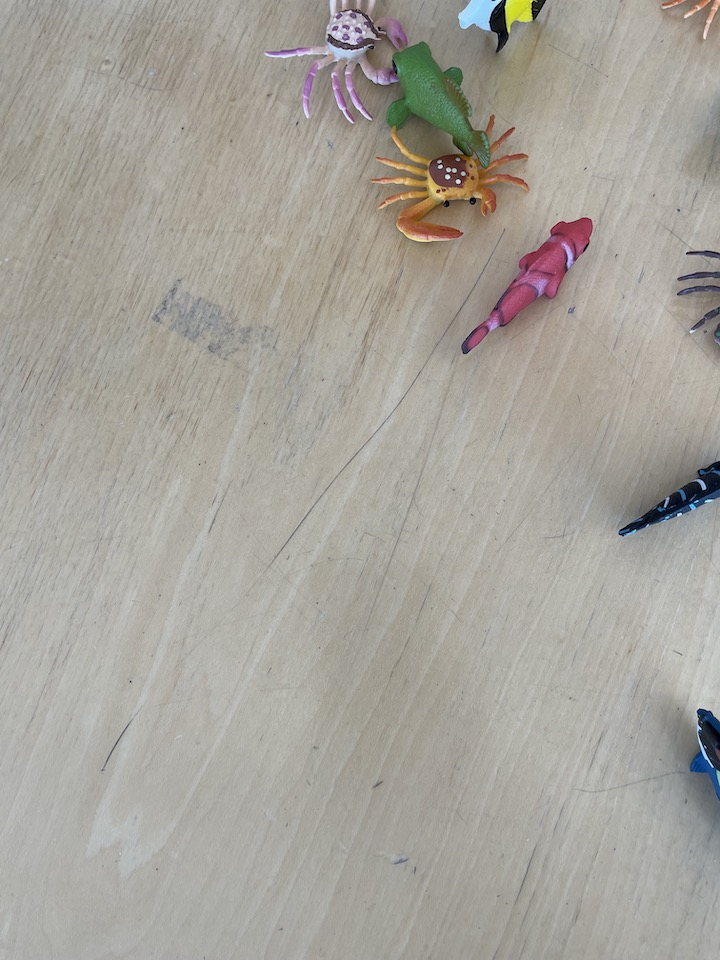crab: (368, 112, 536, 245), (262, 1, 422, 124), (675, 238, 720, 361), (655, 1, 720, 44)
danger: (454, 1, 550, 54)
fish: (458, 214, 599, 357), (380, 37, 498, 173), (611, 455, 720, 540), (687, 704, 720, 806)
